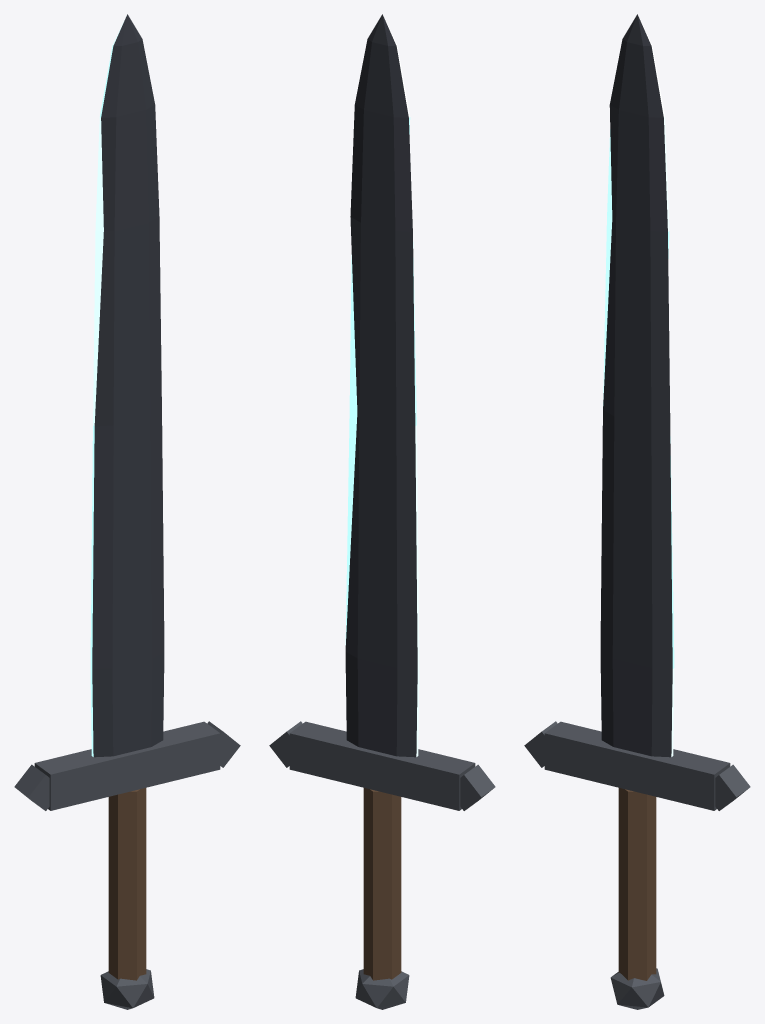
The model's file is sword.glb.
3 renders of one model, left to right at view 1: azimuth 30°, elevation 25°; view 2: azimuth 150°, elevation 25°; view 3: azimuth 330°, elevation 25°, orthographic.
Visible parts, largest first — view 1: CAO_Blade, CAO_Guard, CAO_Grip, CAO_Pommel, CAO_GuardTipL; view 2: CAO_Blade, CAO_Guard, CAO_Grip, CAO_Pommel, CAO_GuardTipL; view 3: CAO_Blade, CAO_Guard, CAO_Grip, CAO_Pommel, CAO_GuardTipR.
Part boxes in pixels (box(x1,y1,x2,y2)): CAO_Blade: box(90, 14, 164, 757); CAO_Guard: box(34, 721, 220, 810); CAO_Grip: box(108, 788, 146, 980); CAO_Pommel: box(100, 969, 154, 1009); CAO_GuardTipL: box(14, 764, 49, 810); CAO_Blade: box(345, 14, 419, 757); CAO_Guard: box(289, 721, 475, 810); CAO_Grip: box(363, 788, 401, 980); CAO_Pommel: box(355, 969, 409, 1009); CAO_GuardTipL: box(460, 764, 495, 810); CAO_Blade: box(600, 14, 674, 757); CAO_Guard: box(544, 721, 730, 810); CAO_Grip: box(618, 788, 656, 980); CAO_Pommel: box(610, 968, 664, 1009); CAO_GuardTipR: box(715, 764, 750, 810).
Size of the model in its own units: 0.2753 by 1.23 by 0.0578.
